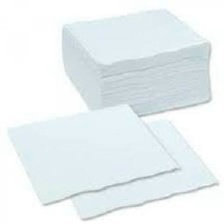tissue: (0, 98, 223, 224), (53, 2, 220, 124)
